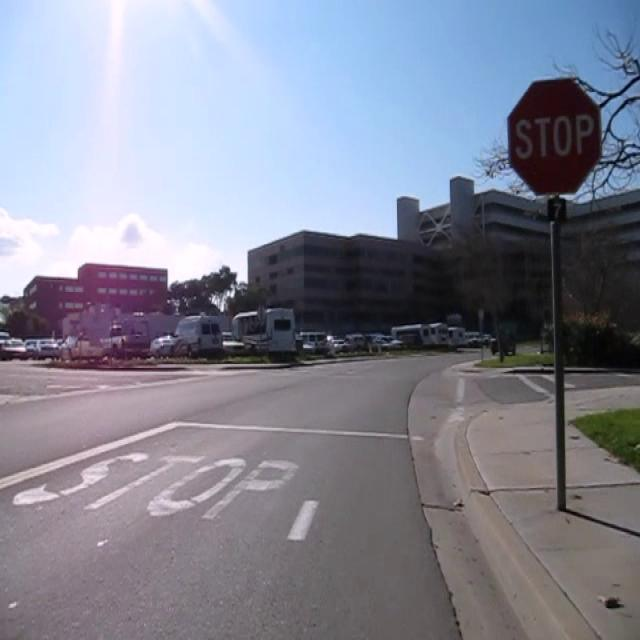stop_sign: (506, 76, 602, 196)
